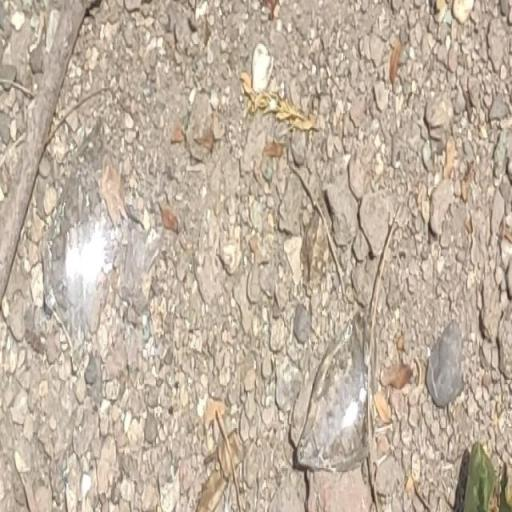glass: (59, 203, 116, 354)
